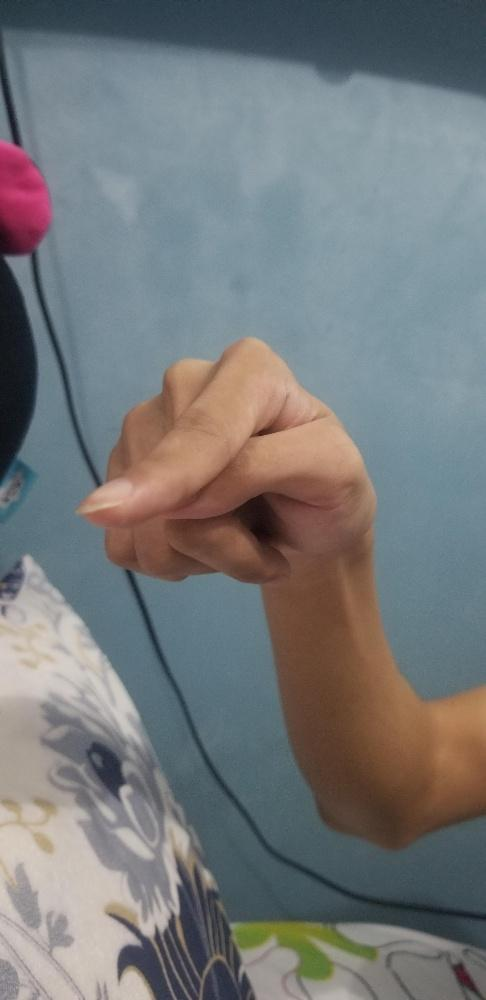z: (74, 332, 378, 589)
